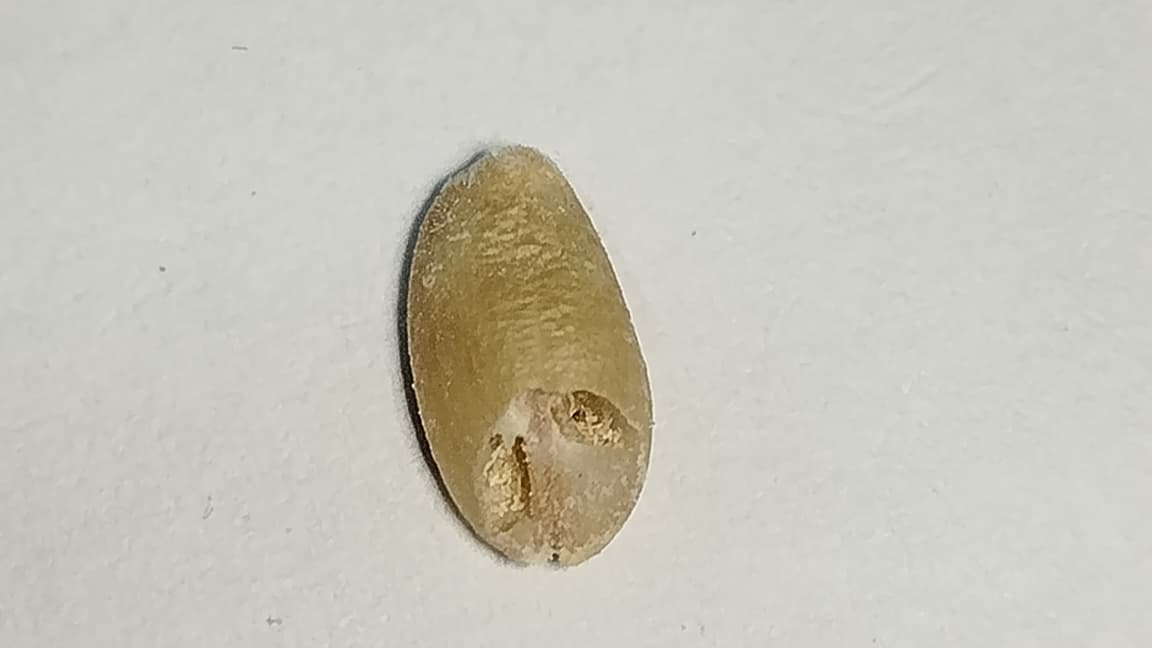damage: (408, 147, 653, 563)
insectdamage: (472, 379, 632, 563)
